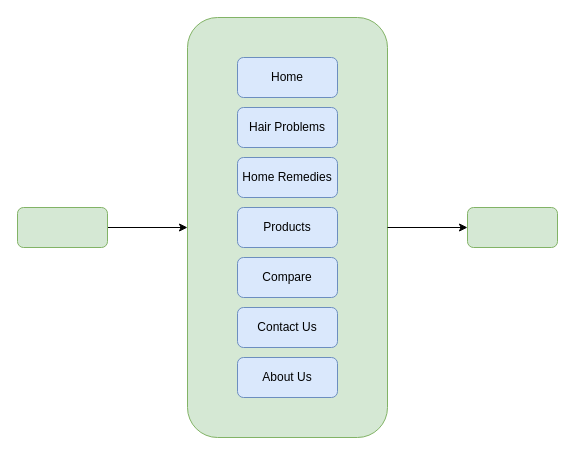
This 575x455 diagram has some shape labels left out. The centre of each missing label's shape, as x and y in pixels:
"End" goes at pixel 512 227.
"Start" goes at pixel 62 227.
